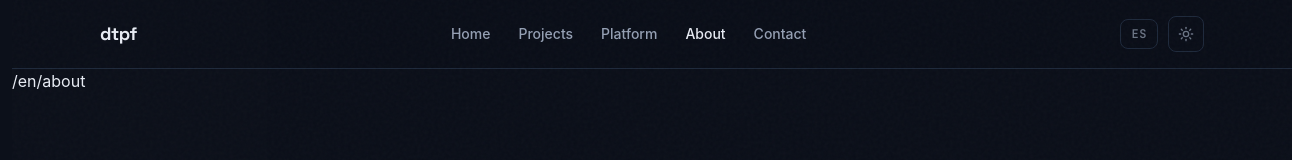
Header language in the URL › on an English URL offers ES and navigates back to the unprefixed twin
The width and height of the screenshot is (1292, 160).
Click the button "ES" at (1139, 34), box left=1120, top=19, right=1158, bottom=49
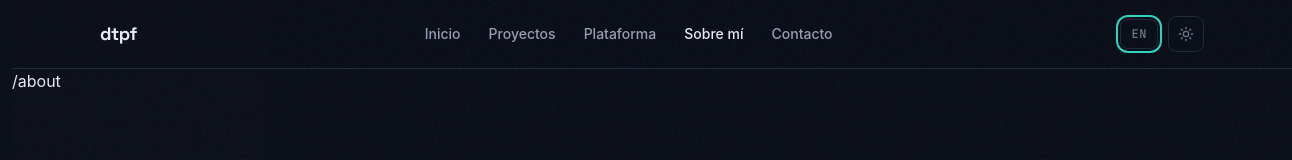
Check: the text with test id "where" reads "/about", box left=12, top=71, right=61, bottom=91
